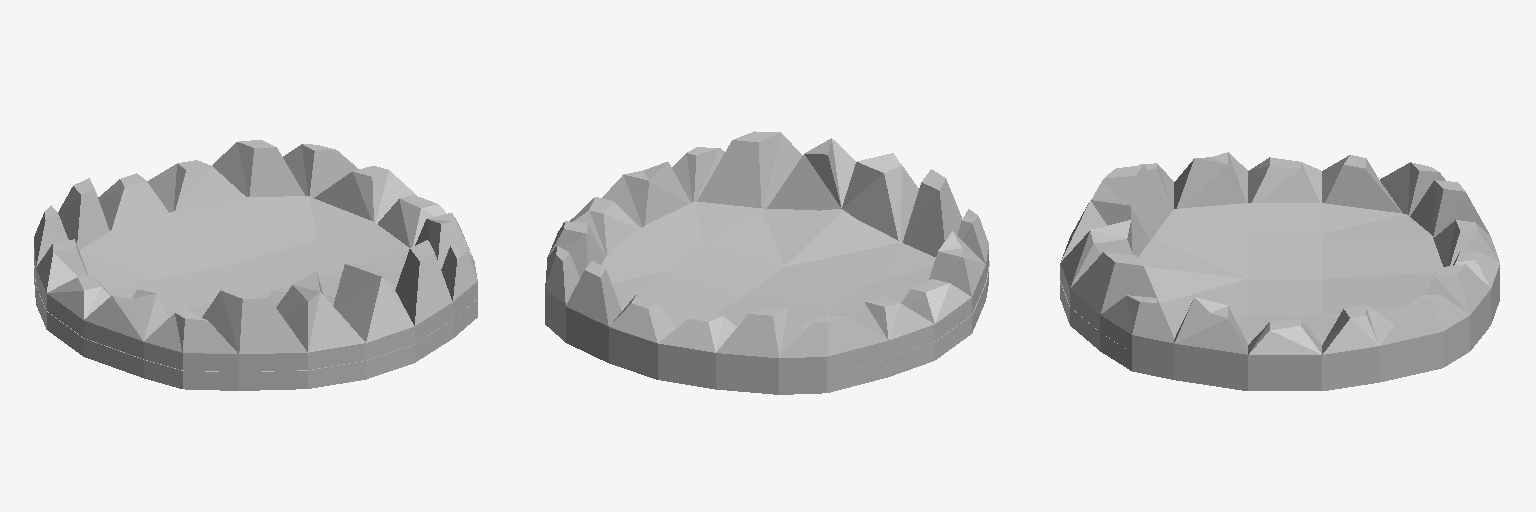
The model's file is hole.obj.
3 renders of one model, left to right at view 1: azimuth 30°, elevation 25°; view 2: azimuth 150°, elevation 25°; view 3: azimuth 270°, elevation 25°, orthographic.
Parts seen in each view (by area): view 1: Rocks_Cube.004, Cube.001; view 2: Rocks_Cube.004, Cube.001; view 3: Rocks_Cube.004, Cube.001.
Boxes of the visible parts, x1,y1,x2,y2 form: Rocks_Cube.004: [34, 140, 477, 390]; Cube.001: [34, 196, 475, 371]; Rocks_Cube.004: [545, 131, 988, 394]; Cube.001: [601, 201, 989, 371]; Rocks_Cube.004: [1060, 152, 1499, 390]; Cube.001: [1060, 203, 1442, 348].
Bounding box in the file's own units: 2.36 × 0.5172 × 2.38.